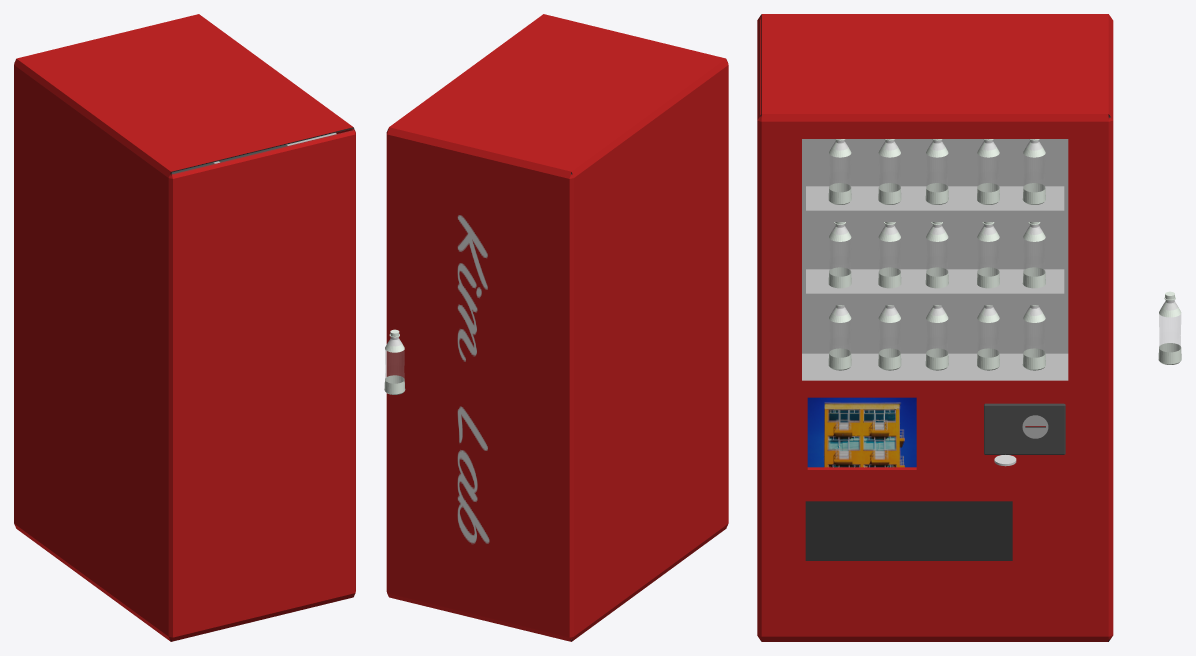
File: vending_machine.fbx
3 views of the same model, side by side, from view 1: azimuth 30°, elevation 25°; view 2: azimuth 150°, elevation 25°; view 3: azimuth 270°, elevation 25° (orthographic). The views are drawn at different scales.
Parts seen in each view (by area): view 1: body; view 2: body, PetBottole.016; view 3: body, PetBottole.015, steps, parts, PetBottole.016, PetBottole.001.
Part boxes in pixels (bbox=[...]): body: bbox=[14, 14, 355, 641]; body: bbox=[386, 14, 728, 641]; PetBottole.016: bbox=[384, 329, 405, 394]; body: bbox=[757, 14, 1113, 641]; PetBottole.015: bbox=[828, 139, 1045, 370]; steps: bbox=[806, 186, 1064, 305]; parts: bbox=[984, 403, 1065, 454]; PetBottole.016: bbox=[1158, 291, 1181, 364]; PetBottole.001: bbox=[925, 139, 948, 204].
Size of the model in its own units: 348 by 720 by 525.
